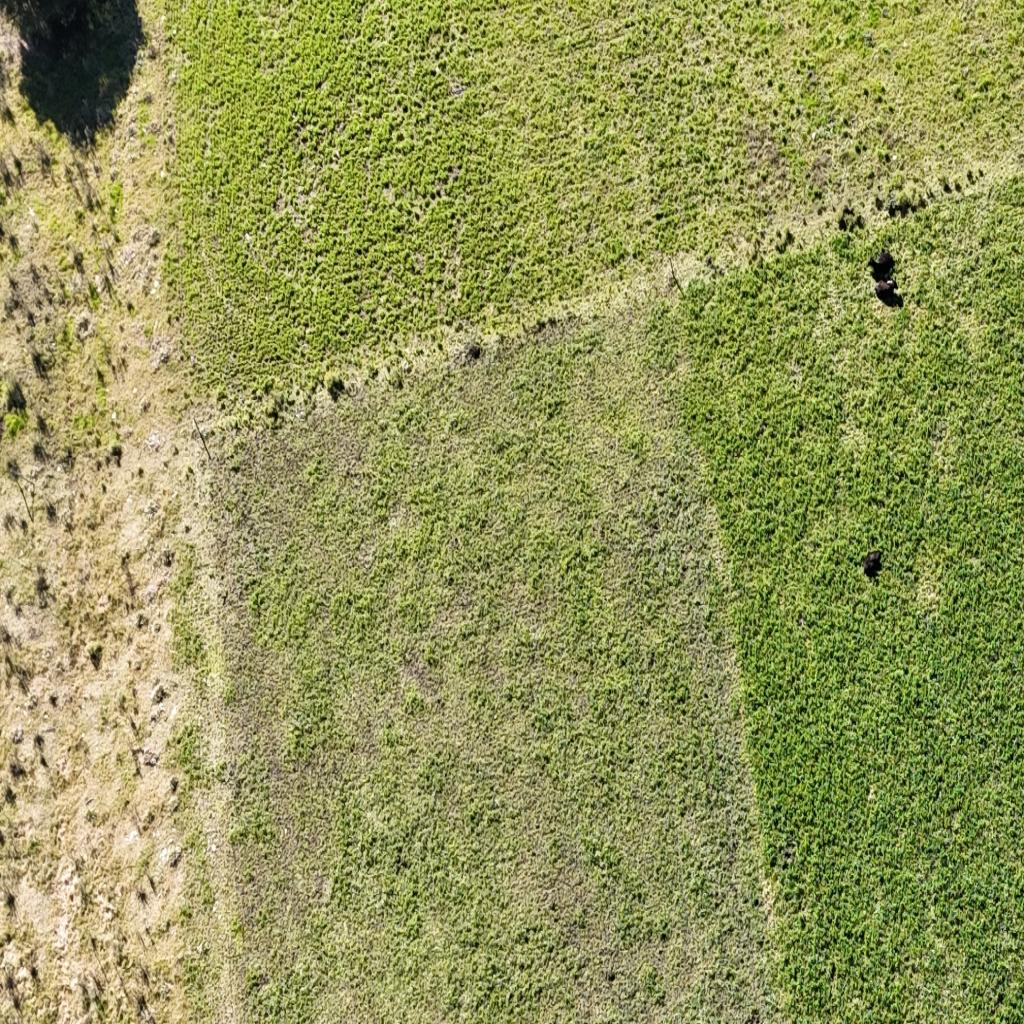cow: (874, 278, 900, 304), (865, 253, 894, 274), (860, 550, 884, 570)
